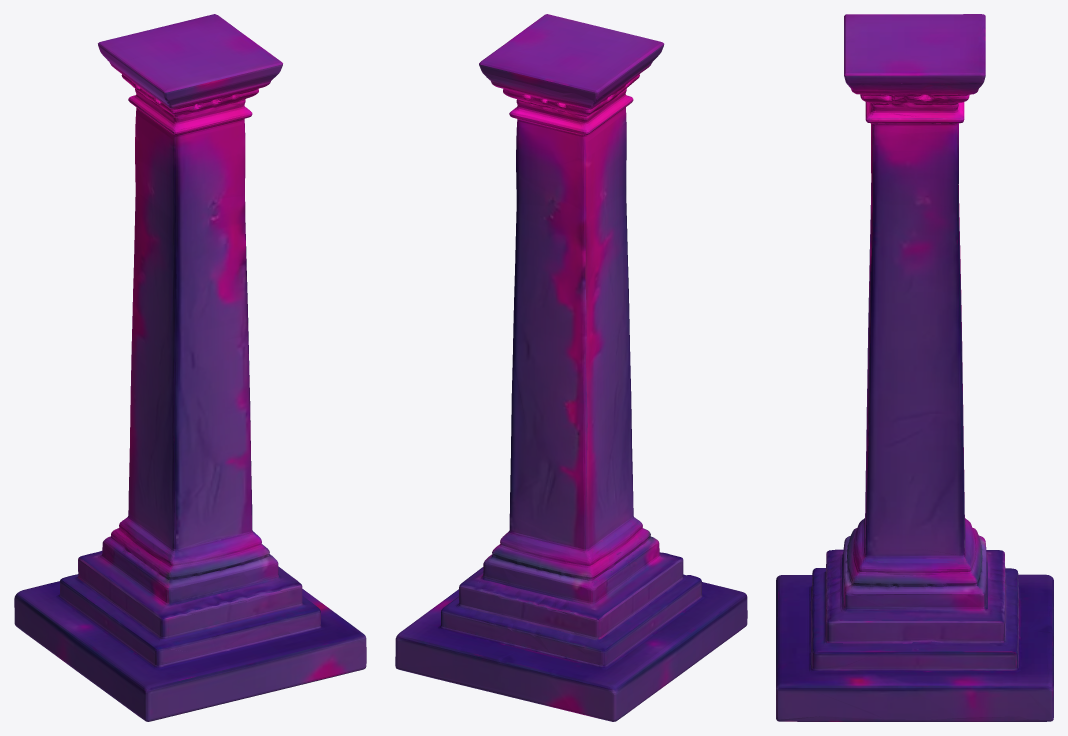
File: weathered-monolith-pillar-generated-2026-04-19T23-45-16-485Z.low.glb
The picture shows the model from 3 angles, left to right: view 1: azimuth 30°, elevation 25°; view 2: azimuth 150°, elevation 25°; view 3: azimuth 270°, elevation 25°; orthographic projection. The views are drawn at different scales.
Visible parts, largest first — view 1: temp_mesh.ply; view 2: temp_mesh.ply; view 3: temp_mesh.ply.
Boxes of the visible parts, <box> form: temp_mesh.ply: <box>14,14,366,721</box>; temp_mesh.ply: <box>395,14,747,721</box>; temp_mesh.ply: <box>776,14,1053,721</box>.
Bounding box in the file's own units: 0.767 × 1.97 × 0.7981.
1 material, 1 textured.
